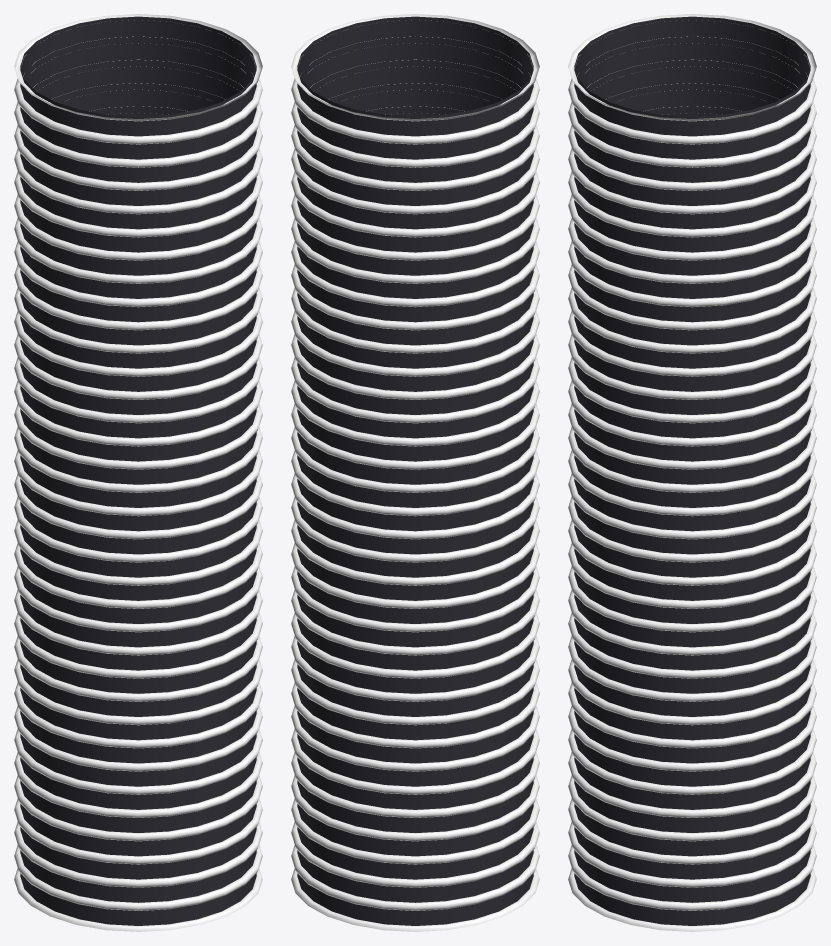
The model's file is Column06.FBX.
The picture shows the model from 3 angles, left to right: view 1: azimuth 30°, elevation 25°; view 2: azimuth 150°, elevation 25°; view 3: azimuth 270°, elevation 25°; orthographic projection.
Visible parts, largest first — view 1: Column06; view 2: Column06; view 3: Column06.
Part boxes in pixels (x1,y1,x2,y2): Column06: [14, 14, 262, 931]; Column06: [291, 14, 539, 931]; Column06: [568, 14, 816, 931].
Bounding box in the file's own units: 97.08 × 350 × 97.08.
